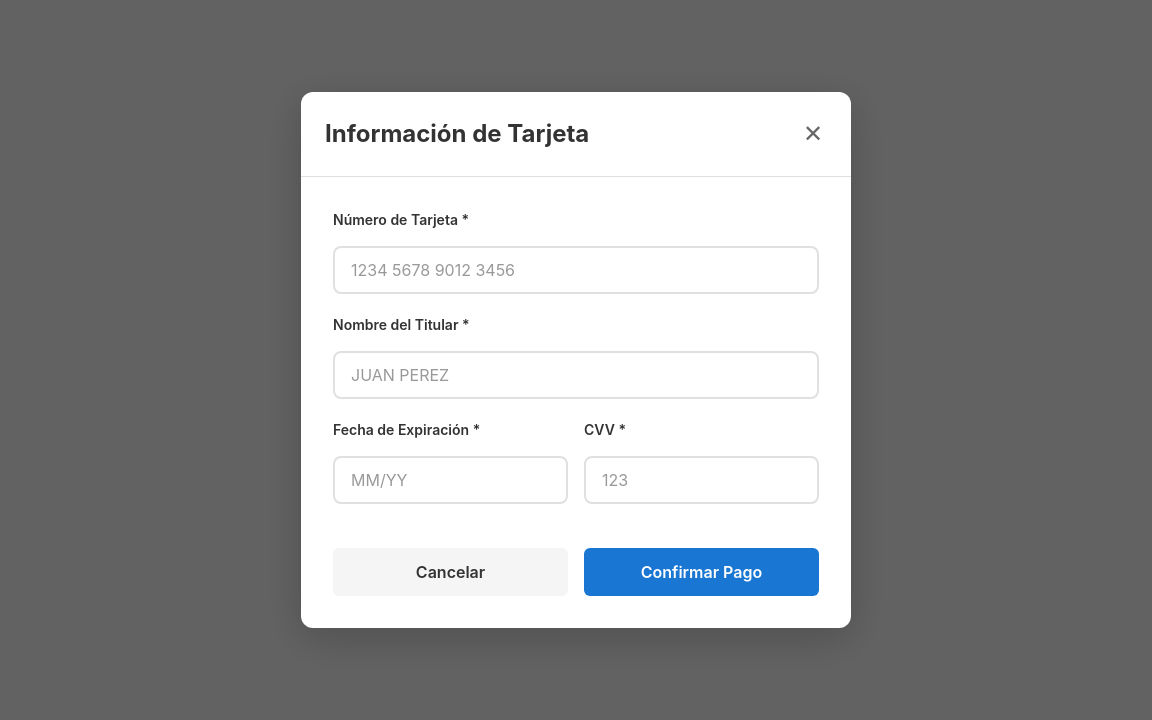
Test case: CreditCardModal Component › Validación de fecha de expiración › debe validar que el mes sea válido (01-12)
This screenshot has width=1152, height=720.
Type "13/25" into the field labelled "Fecha de Expiración *" at [450, 480], box [333,456,568,504]
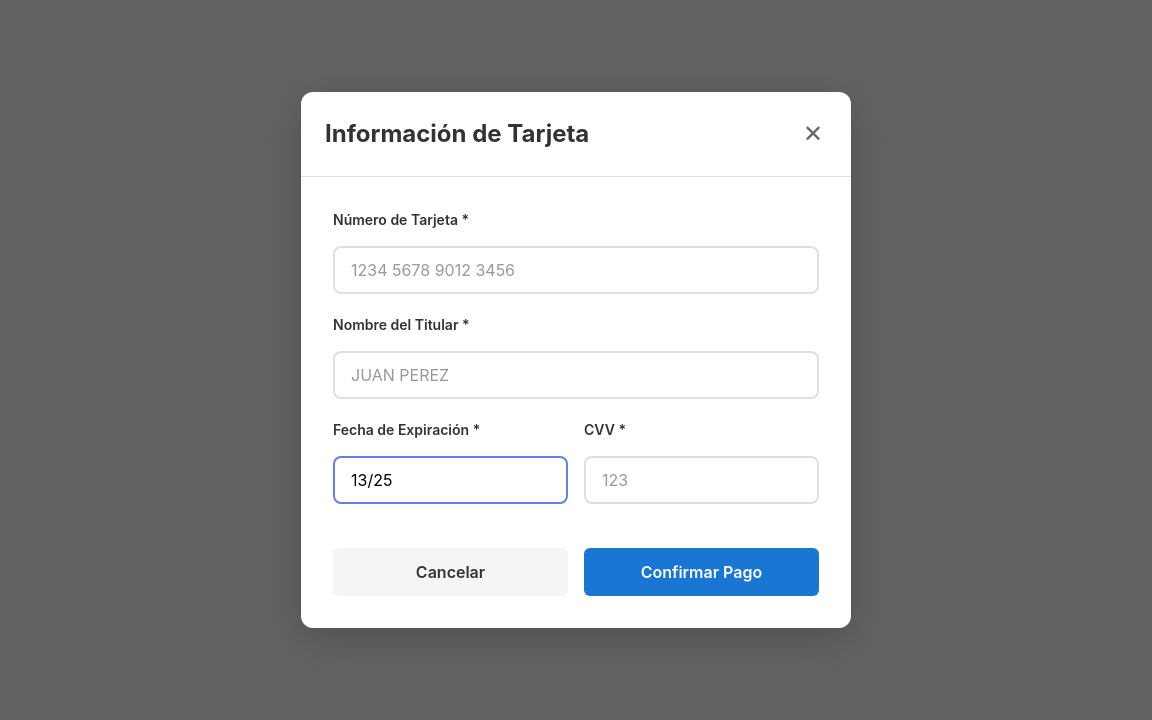
Click the button "Confirmar Pago" at [702, 572], box [584,548,819,596]
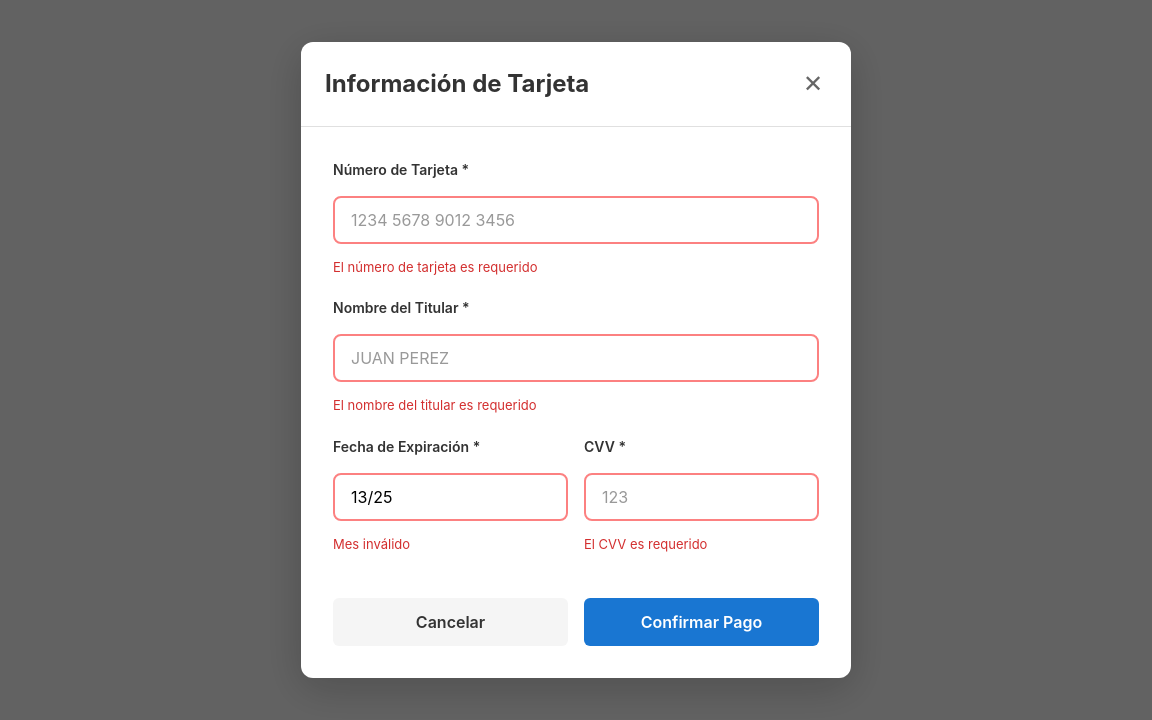
Now the text "Mes inválido" is shown, box [333,536,410,552]
